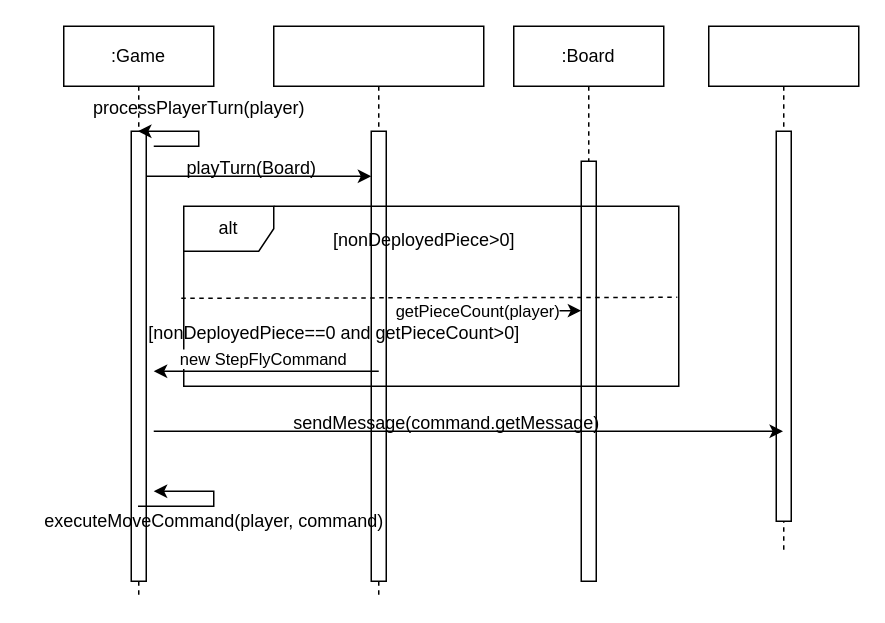
The diagram is 885 pixels wide and 623 high, and some of its shapes have lost their labels. Each missing label, with the box of its shape:
:Display: (707, 25, 859, 551)
HumanPlayer:PlayerPawn: (272, 25, 484, 596)
